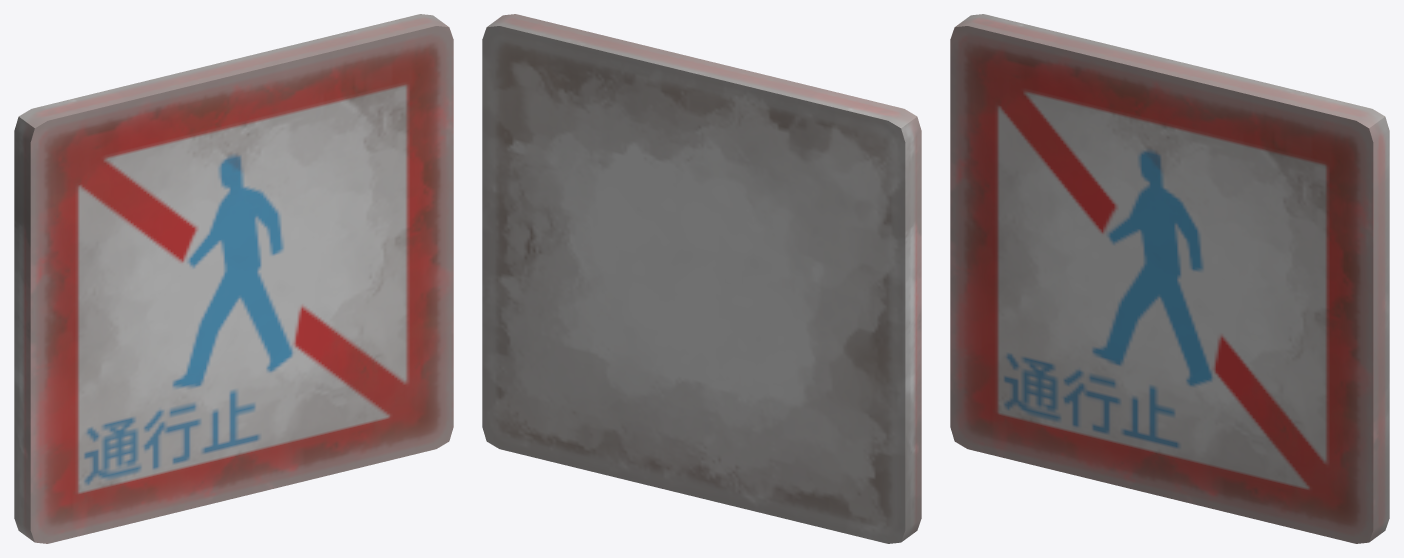
File: SM_roadsign_pedestrian.fbx
3 renders of one model, left to right at view 1: azimuth 30°, elevation 25°; view 2: azimuth 150°, elevation 25°; view 3: azimuth 330°, elevation 25°, orthographic.
Parts seen in each view (by area): view 1: Box328; view 2: Box328; view 3: Box328.
Part boxes in pixels (bbox=[...]): Box328: bbox=[14, 14, 453, 543]; Box328: bbox=[482, 14, 921, 543]; Box328: bbox=[950, 14, 1389, 543].
Size of the model in its own units: 19.85 by 18.97 by 1.32.
